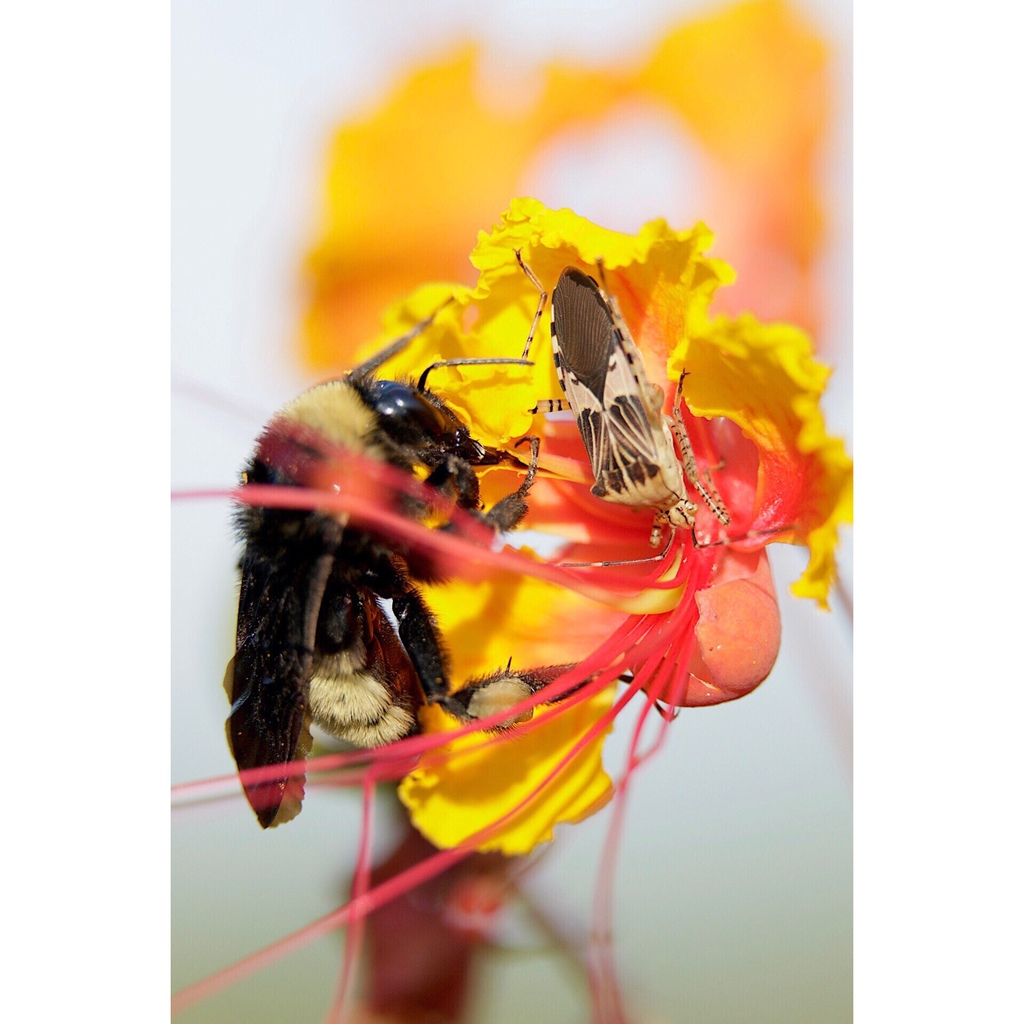bumblebee: (222, 357, 536, 836)
